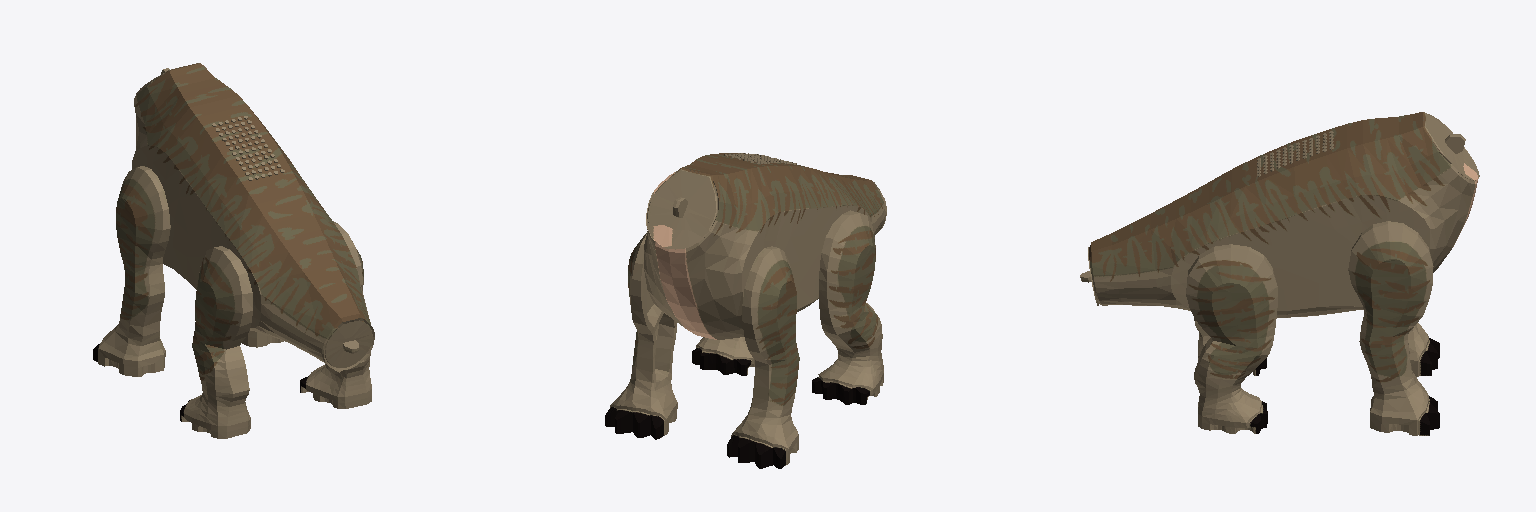
The picture shows the model from 3 angles: view 1: azimuth 30°, elevation 25°; view 2: azimuth 150°, elevation 25°; view 3: azimuth 270°, elevation 25°; orthographic projection.
Visible parts, largest first — view 1: Cuerpo1:untitled_Mes group; view 2: Cuerpo1:untitled_Mes group; view 3: Cuerpo1:untitled_Mes group.
Part boxes in pixels (x1,y1,x2,y2): Cuerpo1:untitled_Mes group: (93, 63, 374, 438); Cuerpo1:untitled_Mes group: (605, 153, 886, 468); Cuerpo1:untitled_Mes group: (1080, 112, 1479, 435).
Size of the model in its own units: 8.01 by 11.74 by 15.54.
Materials: 7 (2 with a texture image).